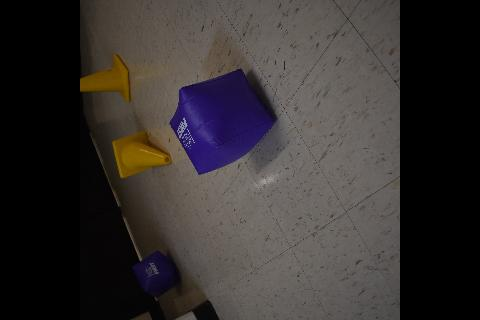cone: (112, 130, 172, 178), (80, 54, 130, 100)
cube: (168, 67, 278, 173), (132, 250, 180, 296)
